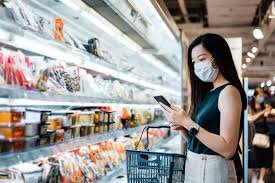with_basket: (124, 122, 190, 183)
with_mask: (187, 33, 231, 84)
